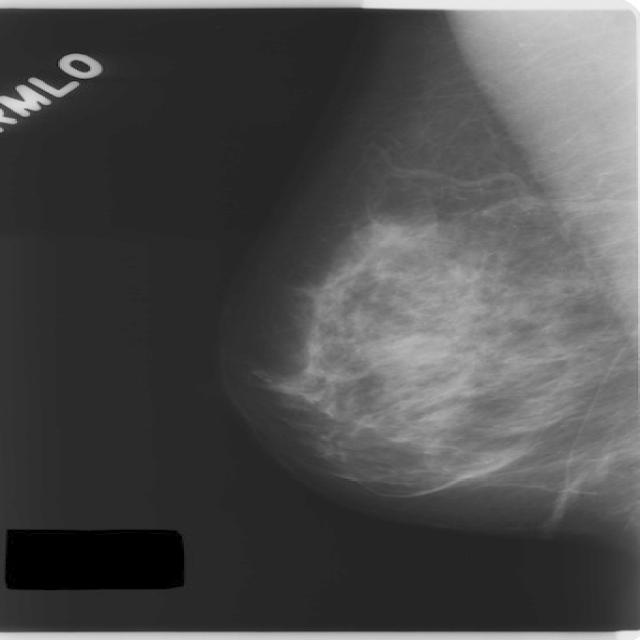tumour: (381, 331, 449, 363)
